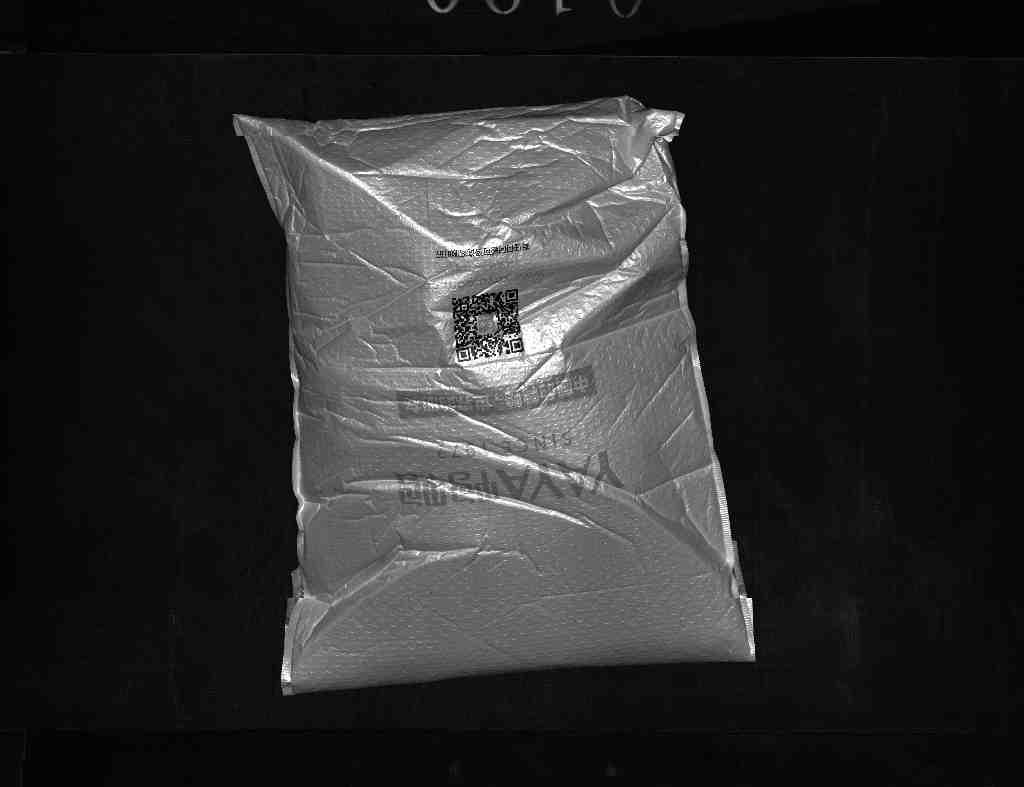box: (225, 95, 766, 697)
